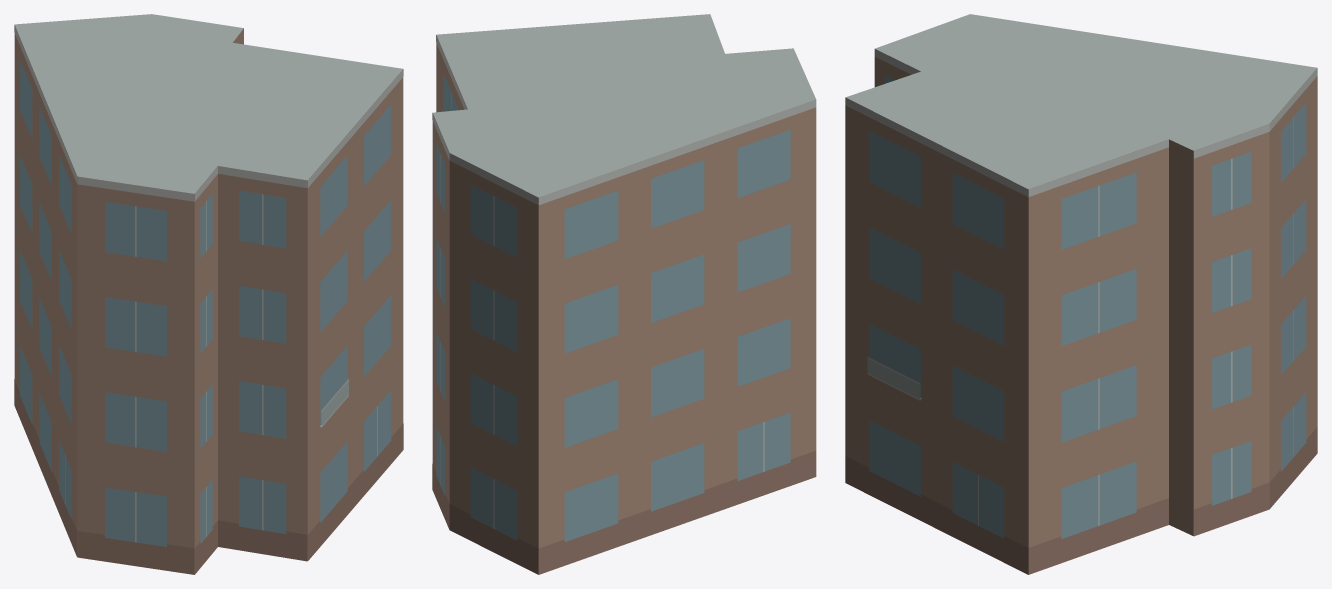
The model's file is survey-upis-32998051.glb.
The picture shows the model from 3 angles, left to right: view 1: azimuth 30°, elevation 25°; view 2: azimuth 150°, elevation 25°; view 3: azimuth 270°, elevation 25°; orthographic projection. The views are drawn at different scales.
Parts seen in each view (by area): view 1: survey-upis-32998051.tmp; view 2: survey-upis-32998051.tmp; view 3: survey-upis-32998051.tmp.
Boxes of the visible parts, x1=… form: survey-upis-32998051.tmp: x1=14, y1=14, x2=403, y2=574; survey-upis-32998051.tmp: x1=432, y1=14, x2=816, y2=574; survey-upis-32998051.tmp: x1=845, y1=14, x2=1317, y2=574.
Bounding box in the file's own units: 11.61 × 11.9 × 13.22.
